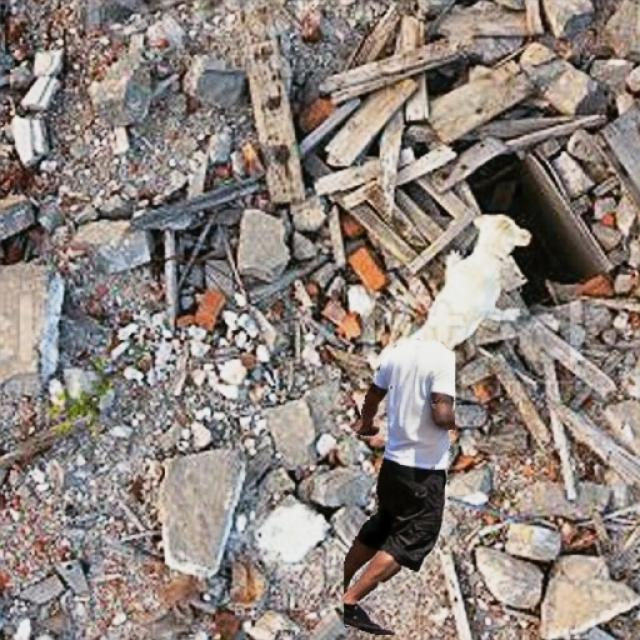Person in Rubble: (344, 338, 454, 634)
